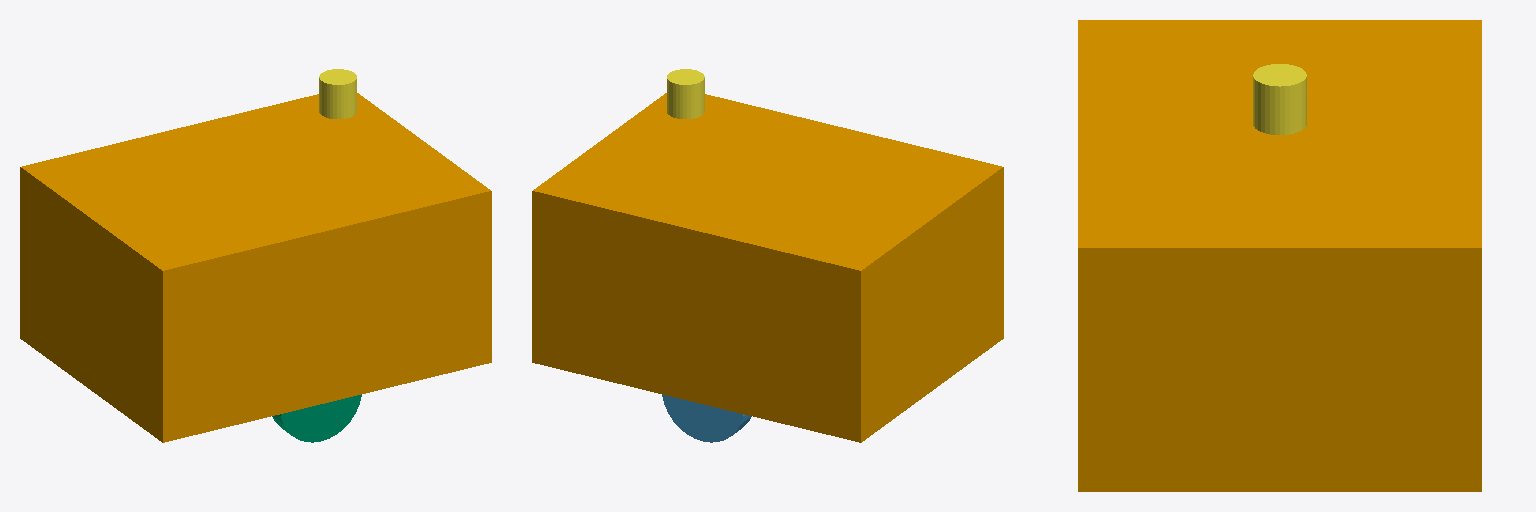
robot.urdf — r01:
<robot name="r01" version="1.0">
<link name="base_link"><inertial><mass value="10"/><inertia ixx="1" ixy="0" ixz="0" iyy="1" iyz="0" izz="1"/></inertial><visual><origin xyz="0 0 0.3" rpy="0 0 0"/><geometry><box size="0.8 0.6 0.4"/></geometry></visual><collision><origin xyz="0 0 0.3" rpy="0 0 0"/><geometry><box size="0.8 0.6 0.4"/></geometry></collision></link>
<link name="left_wheel"><visual><origin xyz="0 0 0" rpy="1.5707963267948966 0 0"/><geometry><cylinder radius="0.1" length="0.05"/></geometry></visual><collision><origin xyz="0 0 0" rpy="1.5707963267948966 0 0"/><geometry><cylinder radius="0.1" length="0.05"/></geometry></collision></link>
<joint name="left_wheel_joint" type="continuous"><parent link="base_link"/><child link="left_wheel"/><origin xyz="0 0.25 0.1"/><axis xyz="0 1 0"/><limit effort="100" velocity="1000"/></joint>
<link name="right_wheel"><visual><origin xyz="0 0 0" rpy="1.5707963267948966 0 0"/><geometry><cylinder radius="0.1" length="0.05"/></geometry></visual><collision><origin xyz="0 0 0" rpy="1.5707963267948966 0 0"/><geometry><cylinder radius="0.1" length="0.05"/></geometry></collision></link>
<joint name="right_wheel_joint" type="continuous"><parent link="base_link"/><child link="right_wheel"/><origin xyz="0 -0.25 0.1"/><axis xyz="0 1 0"/><limit effort="100" velocity="1000"/></joint>
<link name="lidar_link"><visual><origin xyz="0 0 0" rpy="0 0 0"/><geometry><cylinder radius="0.04" length="0.08"/></geometry></visual><collision><origin xyz="0 0 0" rpy="0 0 0"/><geometry><cylinder radius="0.04" length="0.08"/></geometry></collision></link>
<joint name="lidar_fixed" type="fixed"><parent link="base_link"/><child link="lidar_link"/><origin xyz="0.2 0 0.65"/><axis xyz="0 1 0"/></joint>
</robot>

--- What the picture shows (computed from the rendered views, not written in the file) ---
Views: 3 orthographic renders of the robot side by side, from view 1: azimuth 30°, elevation 25°; view 2: azimuth 150°, elevation 25°; view 3: azimuth 270°, elevation 25°.
Robot: r01 — 4 links, 3 joints (2 continuous, 1 fixed); root link base_link; default pose: every joint at zero.
Visible links, largest first — view 1: base_link, right_wheel, lidar_link; view 2: base_link, left_wheel, lidar_link; view 3: base_link, lidar_link.
Boxes of the visible links, box(x1,y1,x2,y2) form: base_link: box(20, 93, 491, 442); right_wheel: box(272, 394, 361, 442); lidar_link: box(319, 69, 356, 118); base_link: box(532, 93, 1003, 442); left_wheel: box(662, 394, 751, 442); lidar_link: box(667, 69, 704, 118); base_link: box(1078, 20, 1481, 491); lidar_link: box(1253, 64, 1306, 134).
Size in the robot's own frame: 0.8 by 0.6 by 0.69 metres.
Geometry: primitives only (box / cylinder / sphere), no mesh files.
